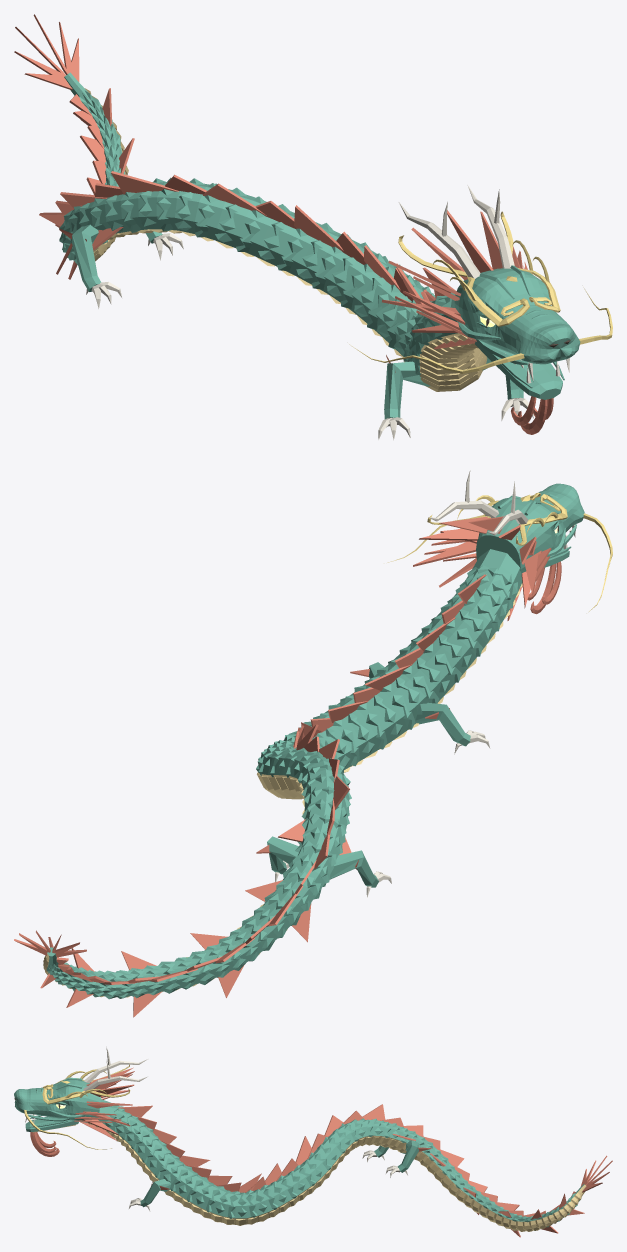
Rendered from Dragon_Long_v4.glb.
3 renders of one model, top to bottom at view 1: azimuth 30°, elevation 25°; view 2: azimuth 150°, elevation 25°; view 3: azimuth 270°, elevation 25°, orthographic. The views are drawn at different scales.
Visible parts, largest first — view 1: Body, Fins, Belly, Horns, Whiskers; view 2: Body, Fins, Horns, Whiskers, Belly; view 3: Body, Fins, Belly, Horns, Whiskers.
Boxes of the visible parts, x1,y1,x2,y2 form: Body: (59, 72, 580, 419); Fins: (14, 14, 553, 434); Belly: (84, 88, 487, 391); Horns: (86, 185, 569, 440); Whiskers: (349, 211, 612, 373); Body: (46, 483, 584, 999); Fins: (14, 516, 561, 1017); Horns: (275, 470, 575, 897); Whiskers: (387, 492, 612, 611); Belly: (43, 583, 522, 997); Body: (14, 1077, 584, 1230); Fins: (30, 1067, 612, 1237); Belly: (33, 1122, 586, 1231); Horns: (25, 1047, 407, 1211); Whiskers: (24, 1064, 130, 1149).
Bounding box in the file's own units: 14.48 × 19.17 × 57.9.
